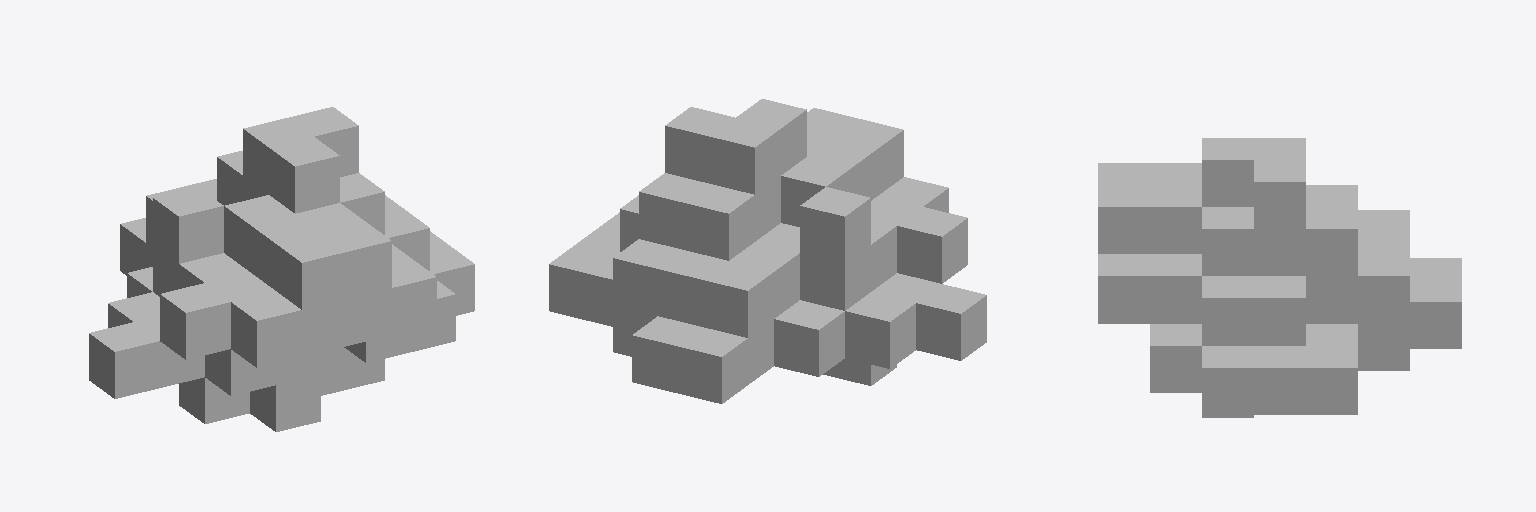
File: Cloud3.obj
The picture shows the model from 3 angles: view 1: azimuth 30°, elevation 25°; view 2: azimuth 150°, elevation 25°; view 3: azimuth 270°, elevation 25°; orthographic projection.
Visible parts, largest first — view 1: object 1; view 2: object 1; view 3: object 1.
Boxes of the visible parts, x1,y1,x2,y2 form: object 1: [89, 107, 474, 431]; object 1: [549, 99, 986, 403]; object 1: [1098, 138, 1461, 417].
Size of the model in its own units: 1.6 by 1 by 1.4.